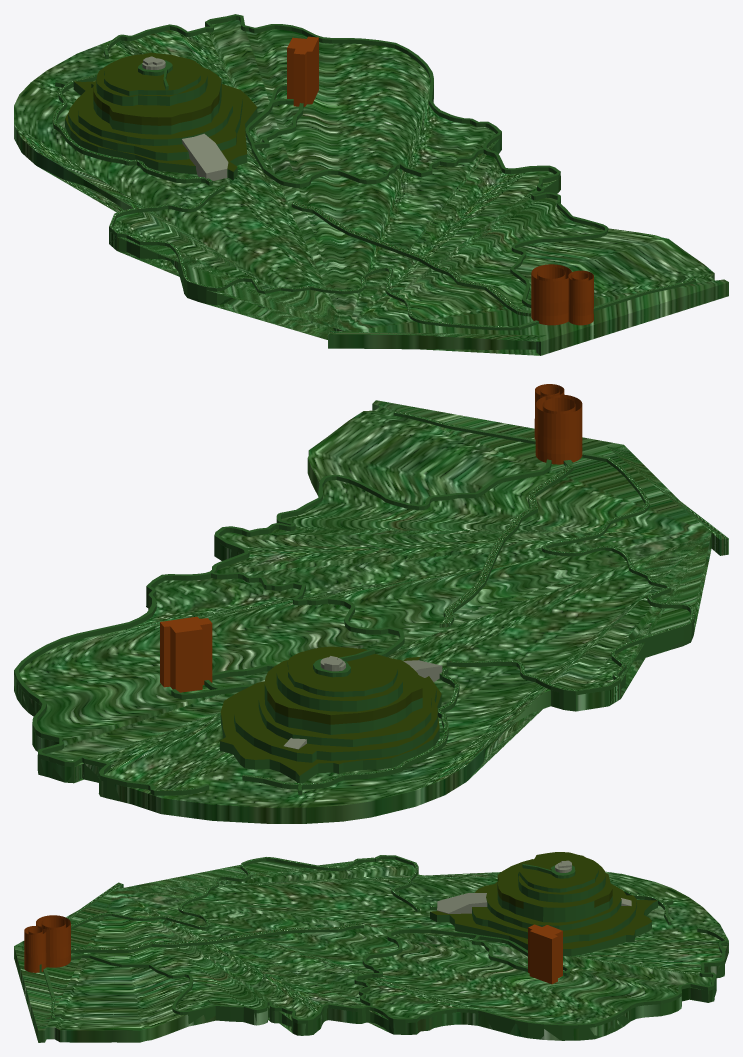
Rendered from Terrain.fbx.
3 renders of one model, top to bottom at view 1: azimuth 30°, elevation 25°; view 2: azimuth 150°, elevation 25°; view 3: azimuth 270°, elevation 25°, orthographic. The views are drawn at different scales.
Visible parts, largest first — view 1: Plane; view 2: Plane; view 3: Plane.
Boxes of the visible parts, x1,y1,x2,y2 form: Plane: (14,14,728,355); Plane: (14,384,728,823); Plane: (14,852,728,1042).
Size of the model in its own units: 529 by 94.7 by 924.
